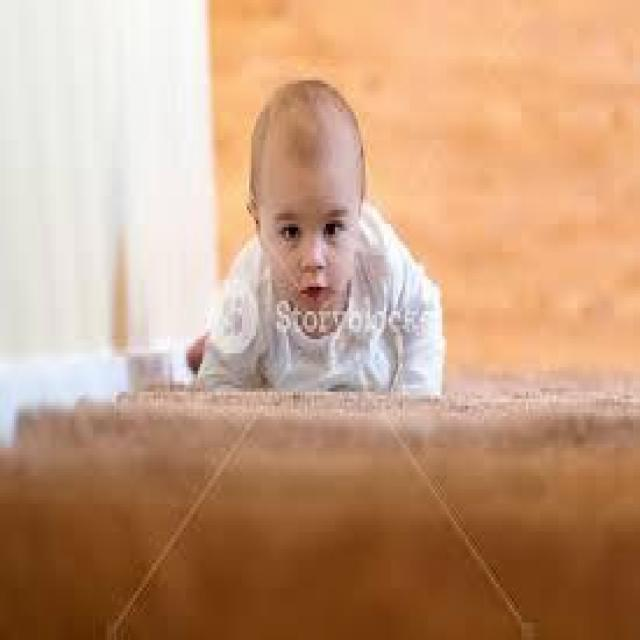child: (174, 77, 454, 420)
